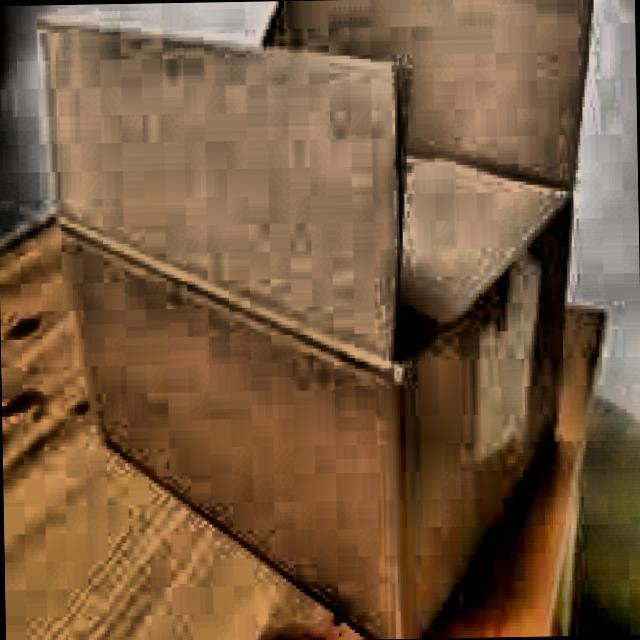cardboard: (36, 0, 612, 640)
